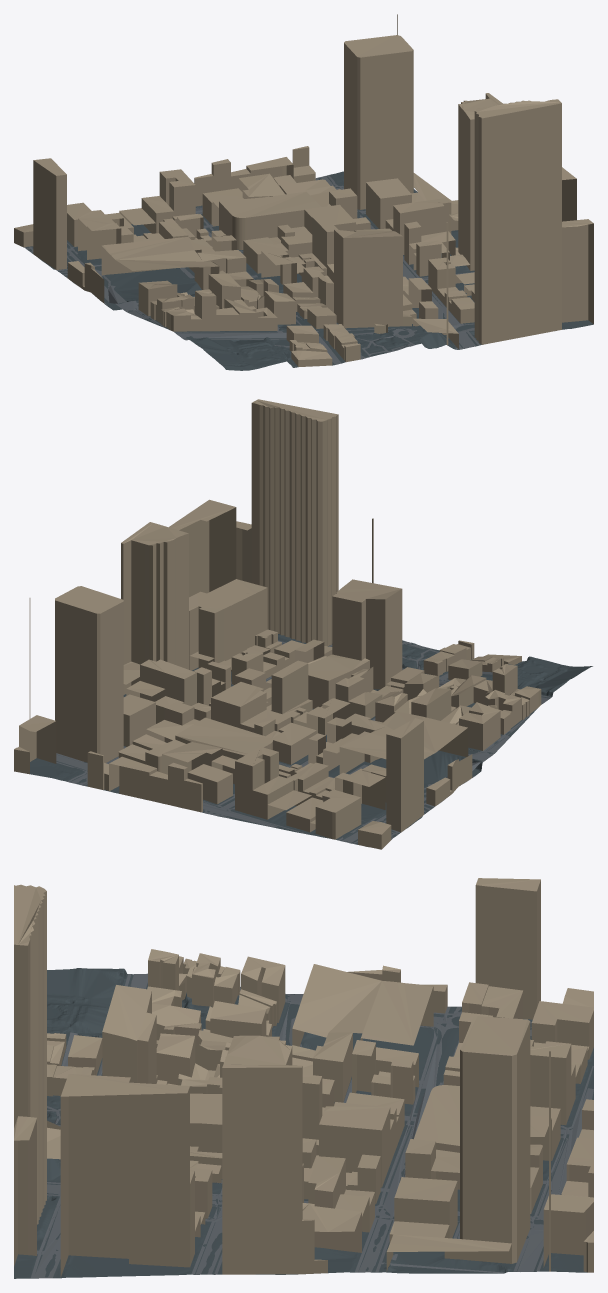
File: epsg26910-1438-10892.lod0.glb
3 renders of one model, top to bottom at view 1: azimuth 30°, elevation 25°; view 2: azimuth 150°, elevation 25°; view 3: azimuth 270°, elevation 25°, orthographic. The views are drawn at different scales.
Visible parts, largest first — view 1: epsg26910-1438-10892-lod0; view 2: epsg26910-1438-10892-lod0; view 3: epsg26910-1438-10892-lod0.
Boxes of the visible parts, x1,y1,x2,y2 form: epsg26910-1438-10892-lod0: [14, 14, 593, 370]; epsg26910-1438-10892-lod0: [14, 399, 592, 849]; epsg26910-1438-10892-lod0: [14, 878, 593, 1278].
Bounding box in the file's own units: 384 × 233 × 384.
